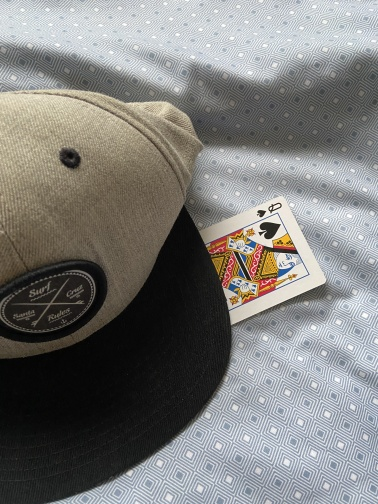queen: (150, 194, 328, 356)
